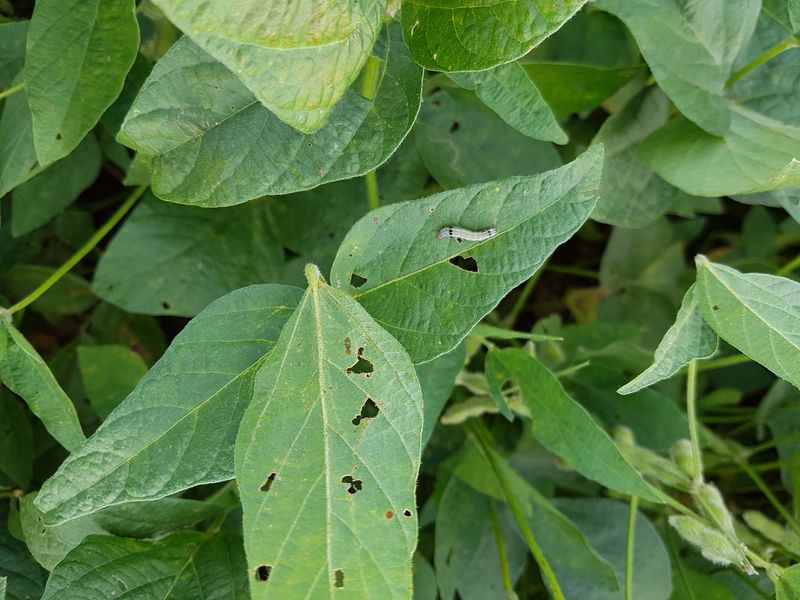Spodoptera_albula: (428, 214, 504, 255)
